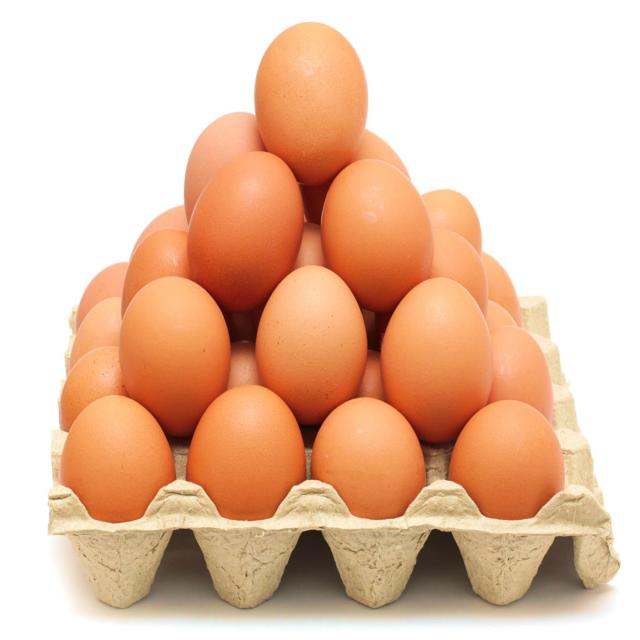huevos: (249, 14, 382, 195)
